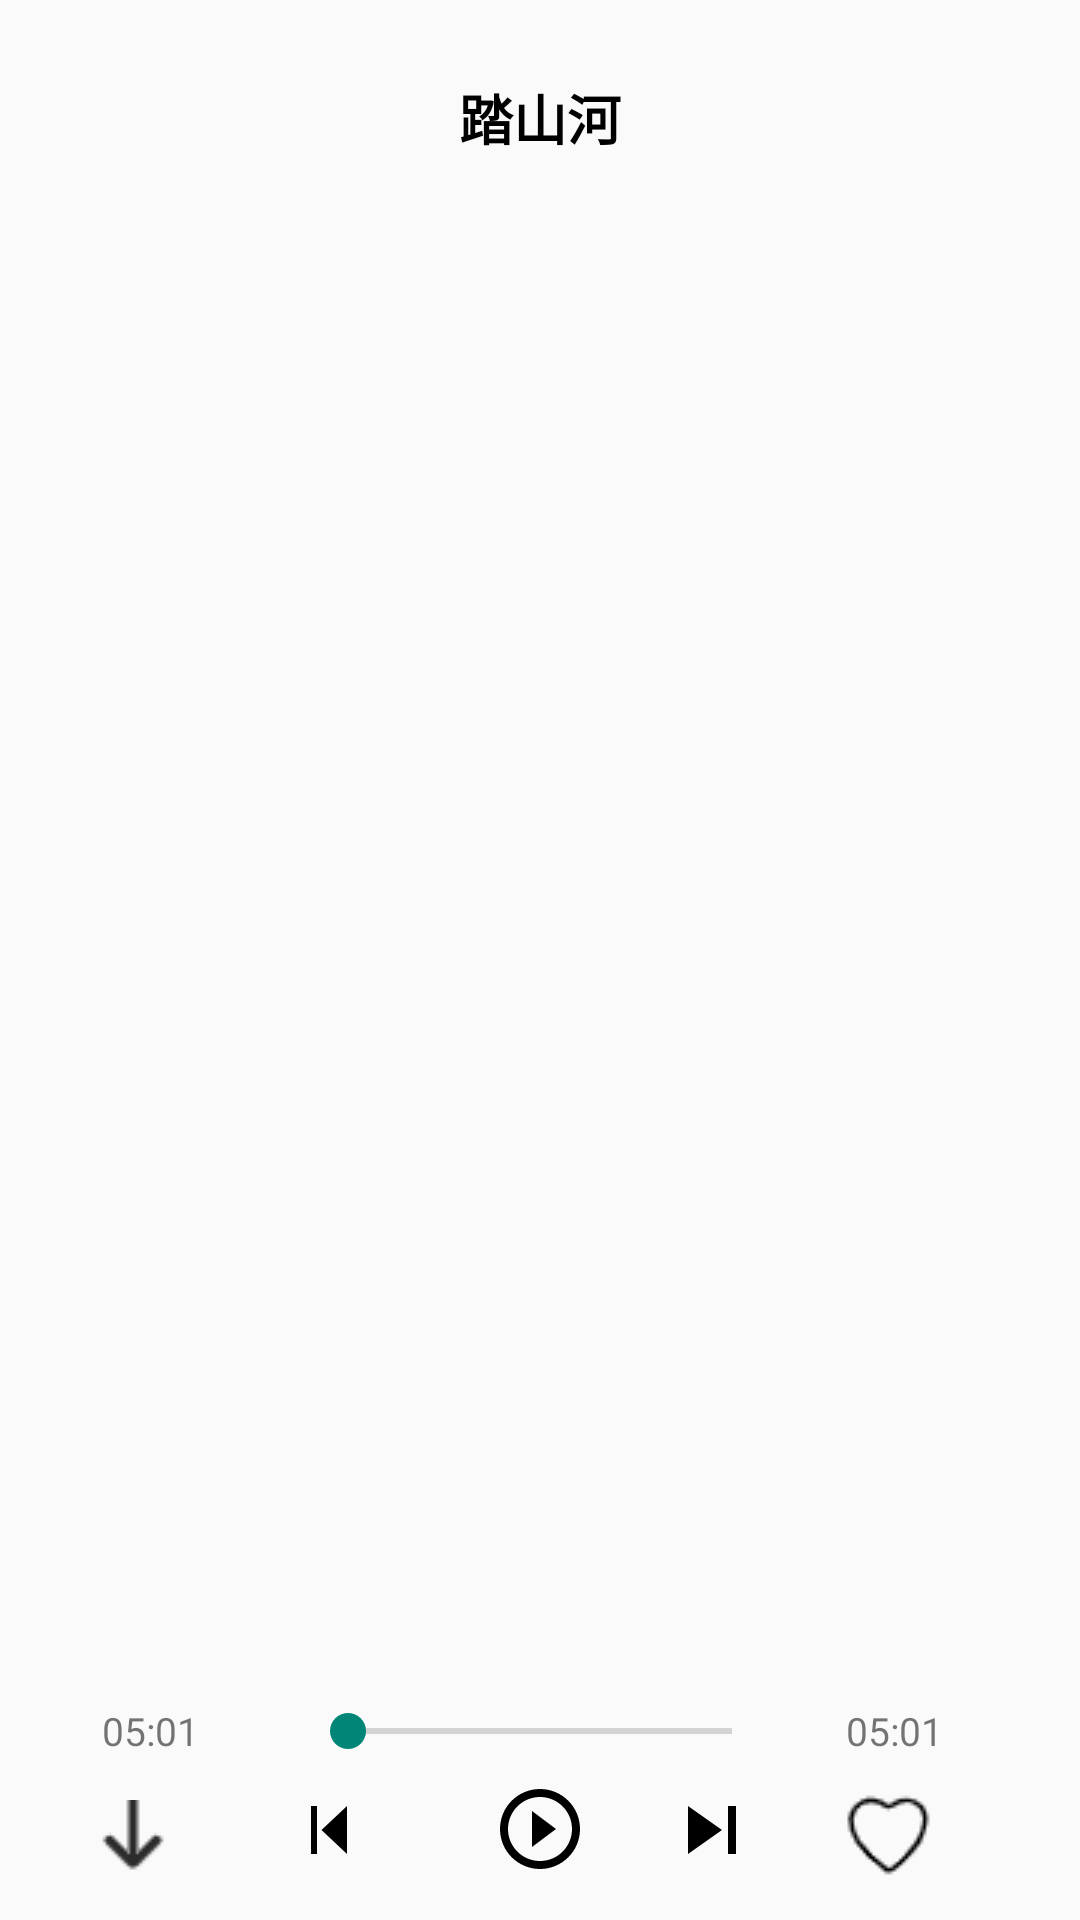

Where to tap for icons on this 1080x1920 app screen, as (x=x, y=y):
download: (x=133, y=1835)
like: (x=888, y=1835)
music begin: (x=540, y=1829)
music last: (x=329, y=1830)
music next: (x=712, y=1830)
